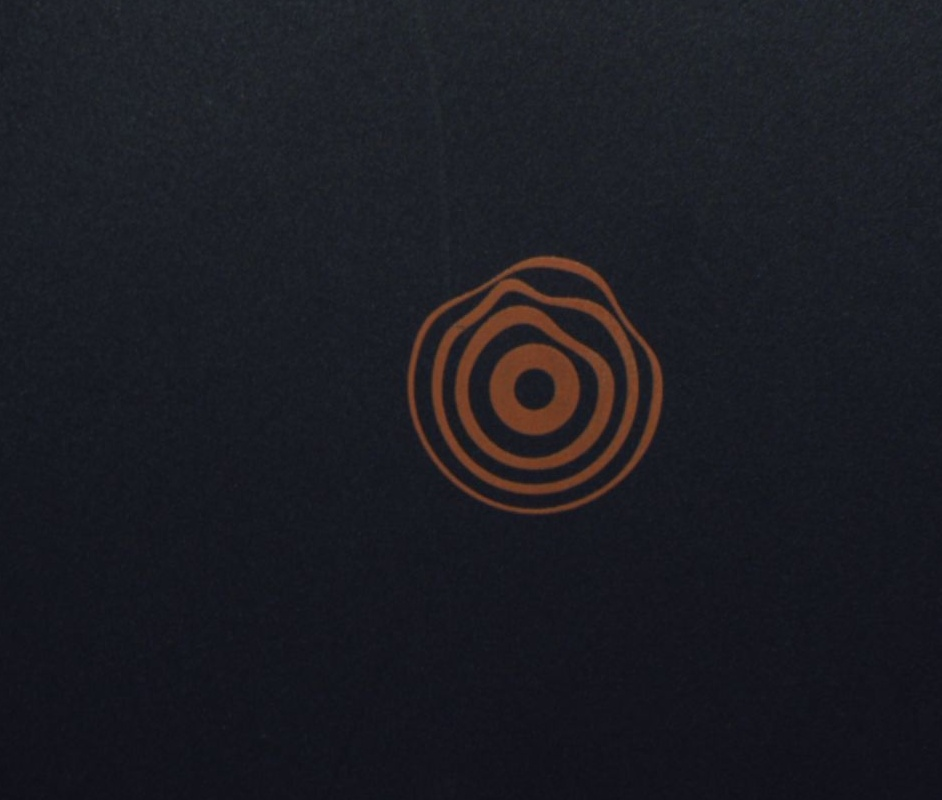BU_HG680GY: (381, 248, 676, 522)
